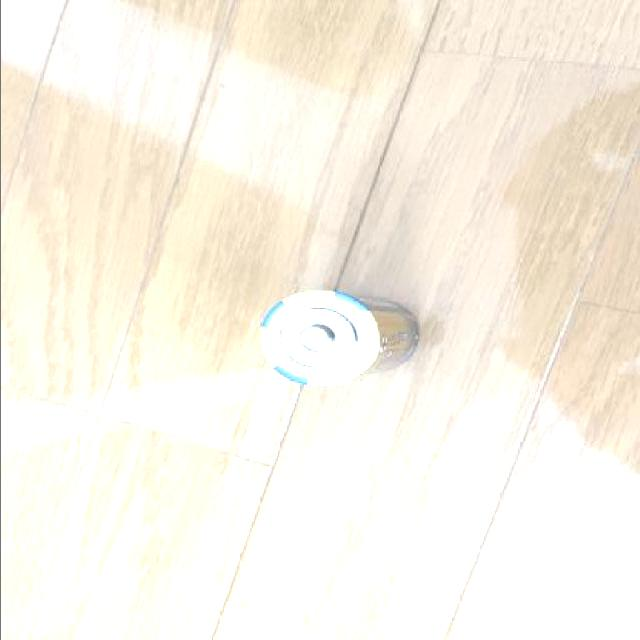AA: (250, 280, 424, 392)
